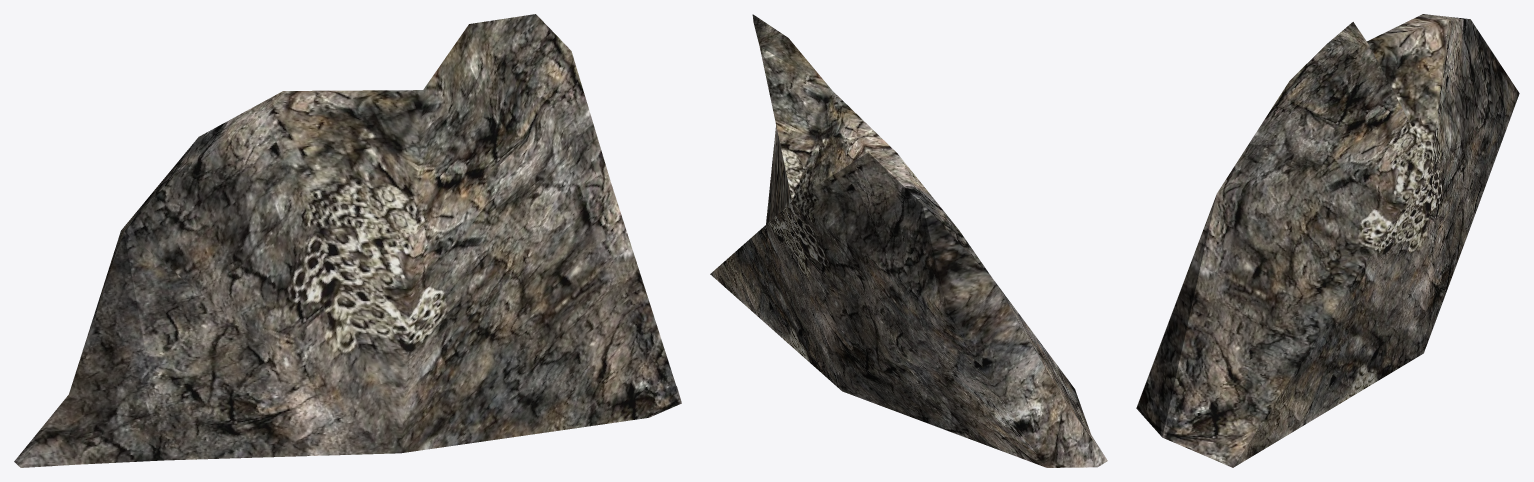
Rendered from pir_m_prp_dvj_rockBare_a.fbx.
3 views of the same model, side by side, from view 1: azimuth 30°, elevation 25°; view 2: azimuth 150°, elevation 25°; view 3: azimuth 270°, elevation 25° (orthographic). The views are drawn at different scales.
Visible parts, largest first — view 1: lod_high; view 2: lod_high; view 3: lod_high.
Boxes of the visible parts, x1,y1,x2,y2 form: lod_high: [14, 14, 681, 467]; lod_high: [710, 14, 1107, 467]; lod_high: [1136, 14, 1519, 467].
Size of the model in its own units: 3675 by 2391 by 2091.
Materials: 1 (1 with a texture image).
